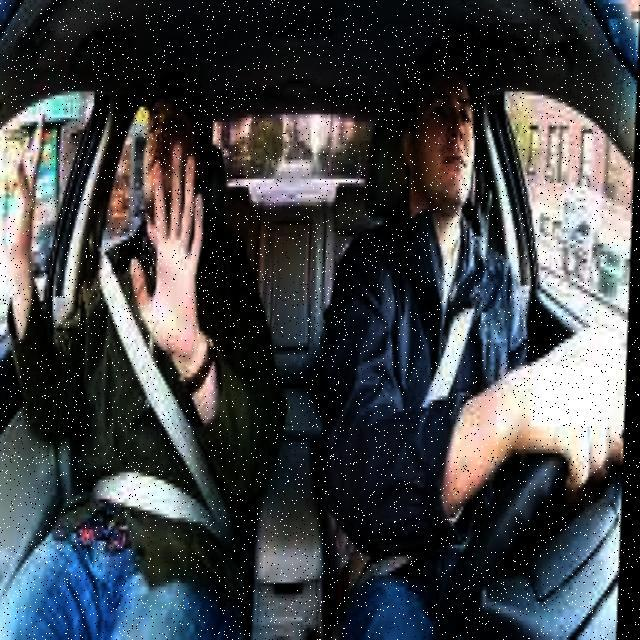seatbelt: (365, 273, 482, 573), (93, 342, 223, 560)
